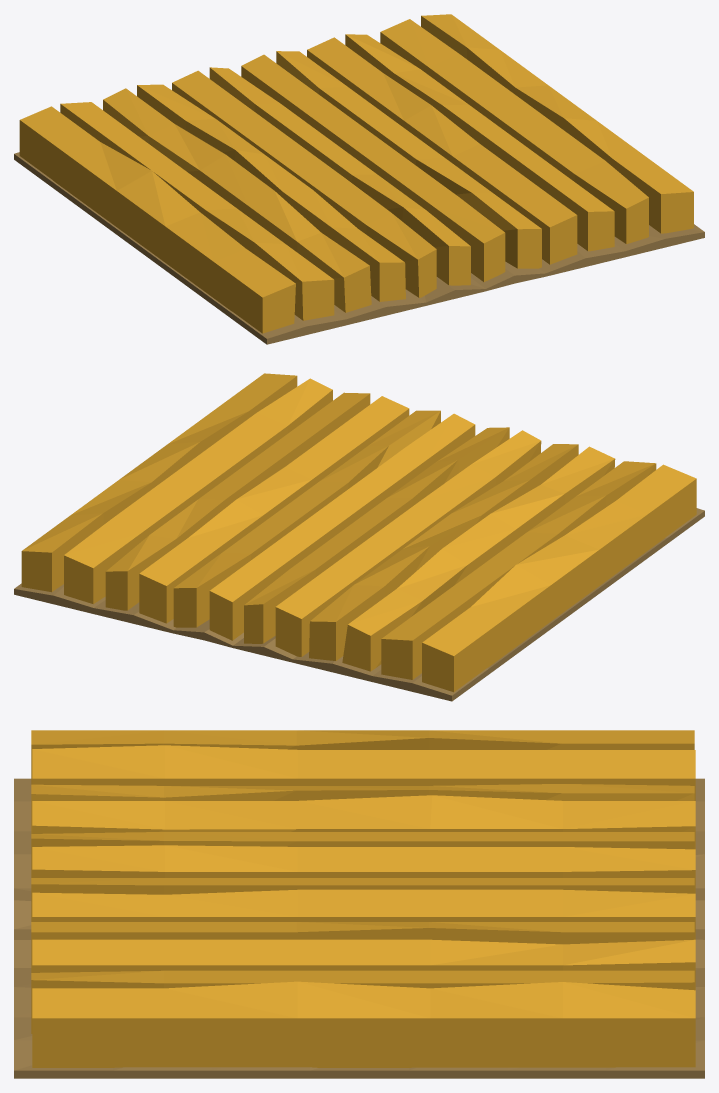
File: field_1.fbx
3 renders of one model, top to bottom at view 1: azimuth 30°, elevation 25°; view 2: azimuth 150°, elevation 25°; view 3: azimuth 270°, elevation 25°, orthographic. The views are drawn at different scales.
Visible parts, largest first — view 1: Soil_0; view 2: Soil_0; view 3: Soil_0.
Boxes of the visible parts, box(x1,y1,x2,y2) form: Soil_0: box(14, 14, 704, 344); Soil_0: box(14, 373, 704, 701); Soil_0: box(14, 730, 704, 1078).
Size of the model in its own units: 111 by 13 by 111.
